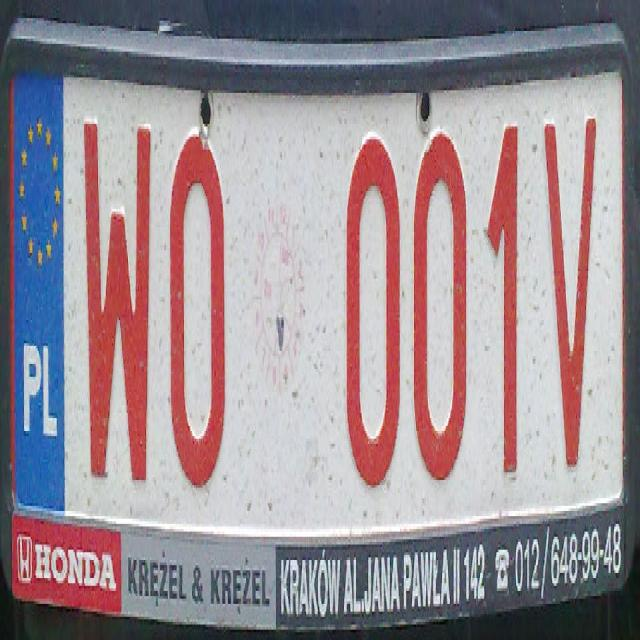pl_license_plate: (9, 70, 624, 518)
